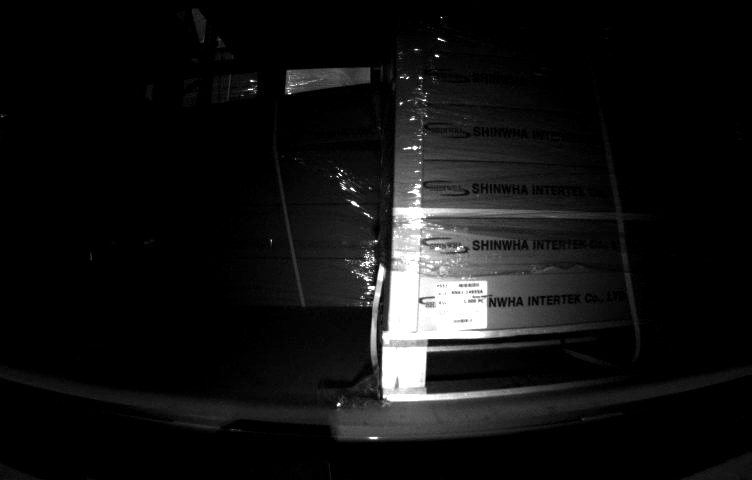True Barcode: (433, 281, 488, 330)
